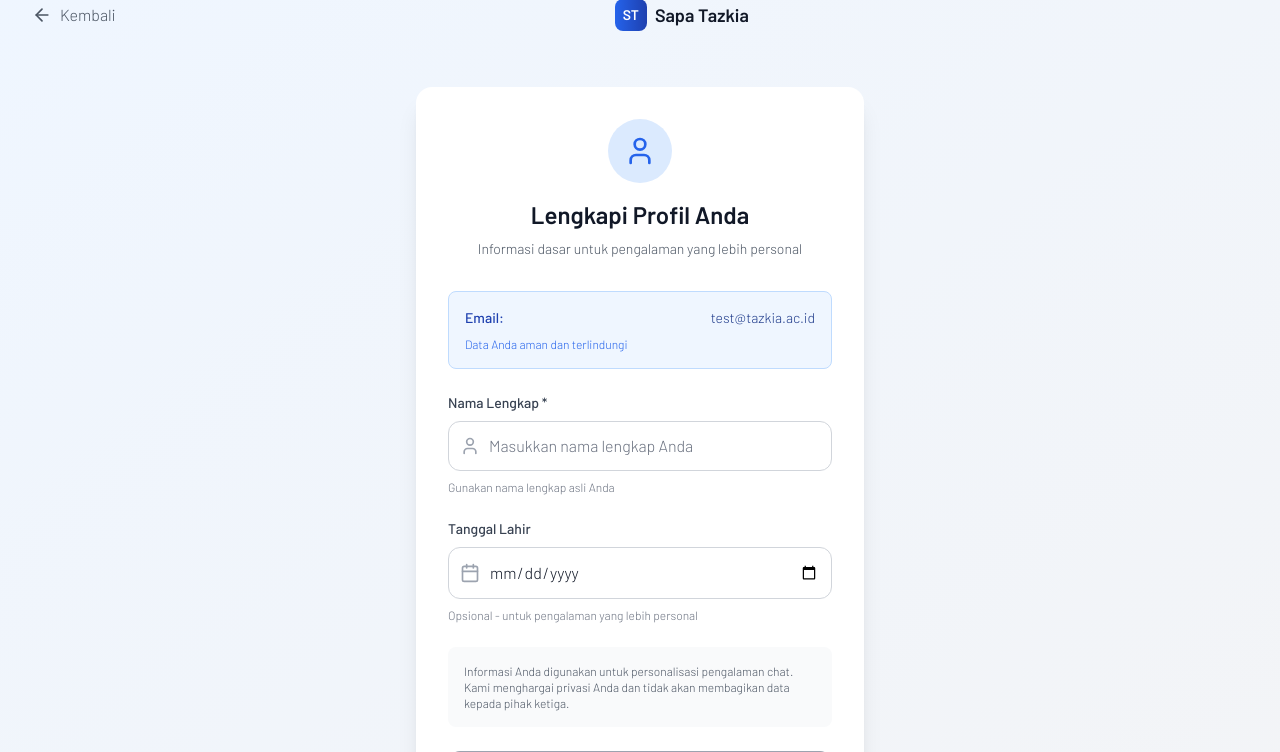
AboutYouPage › shows validation error for short name
The image size is (1280, 752).
Type "A" into the field labelled "Nama Lengkap *".
click(640, 446); type("A")  # box [448, 421, 832, 471]
(page scrolled)
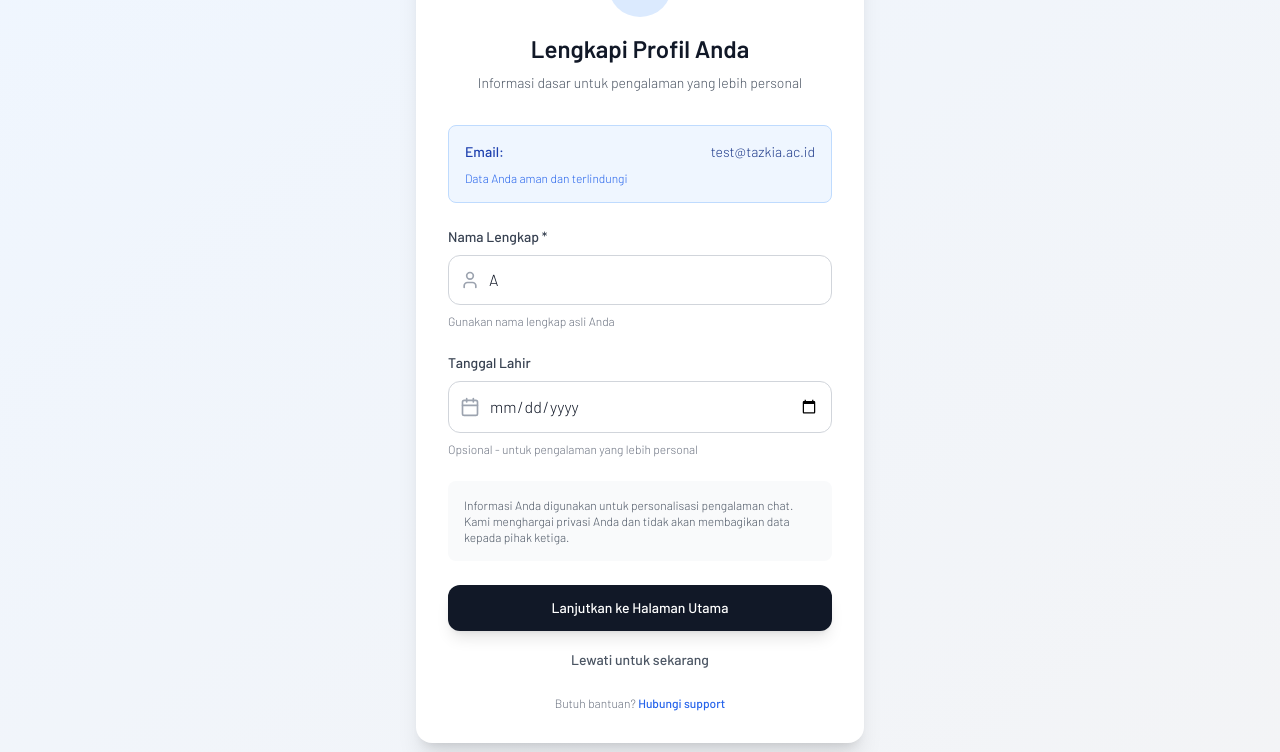
Click the button "Lanjutkan ke Halaman Utama".
click(640, 608)  # box [448, 585, 832, 631]
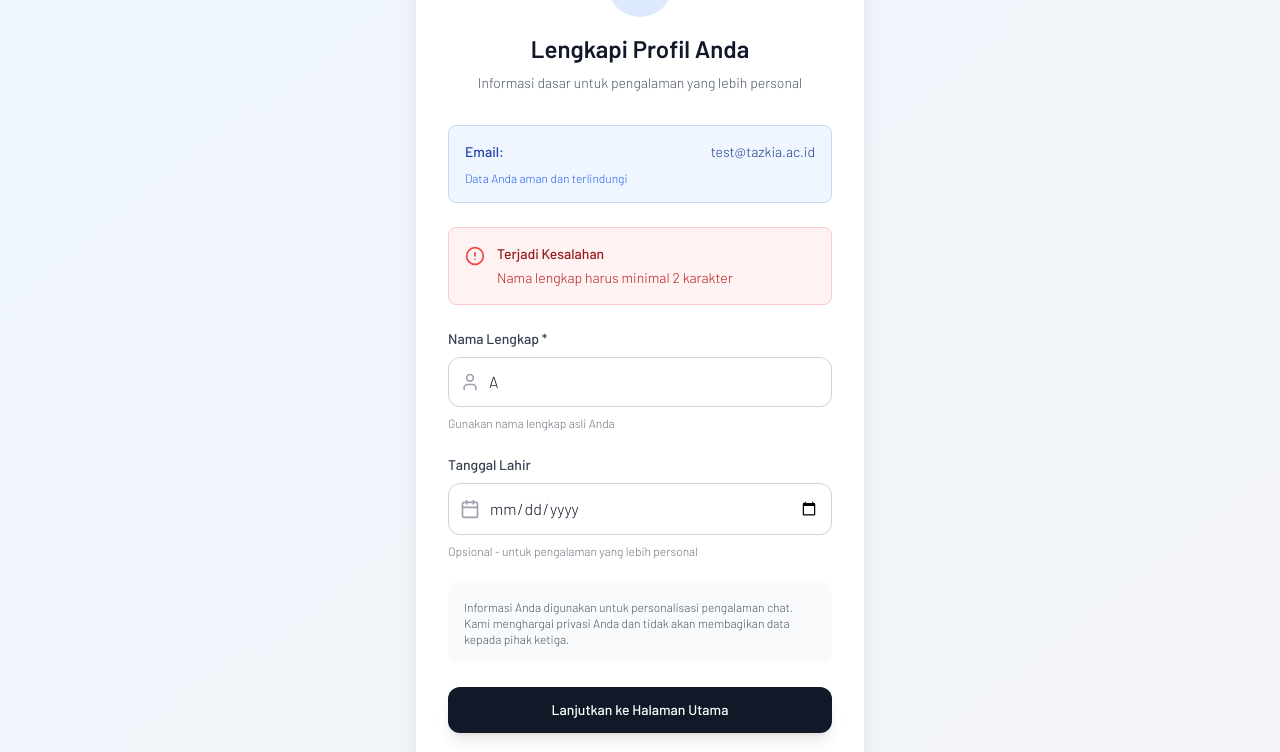
Check: the text "Nama lengkap harus minimal 2 karakter" is shown, box [497, 268, 733, 288]
